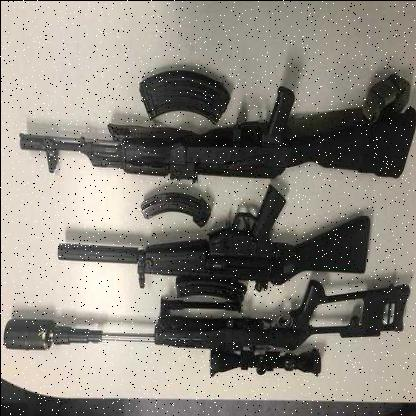rifle: (1, 268, 416, 395), (1, 65, 416, 186), (47, 180, 400, 306)
